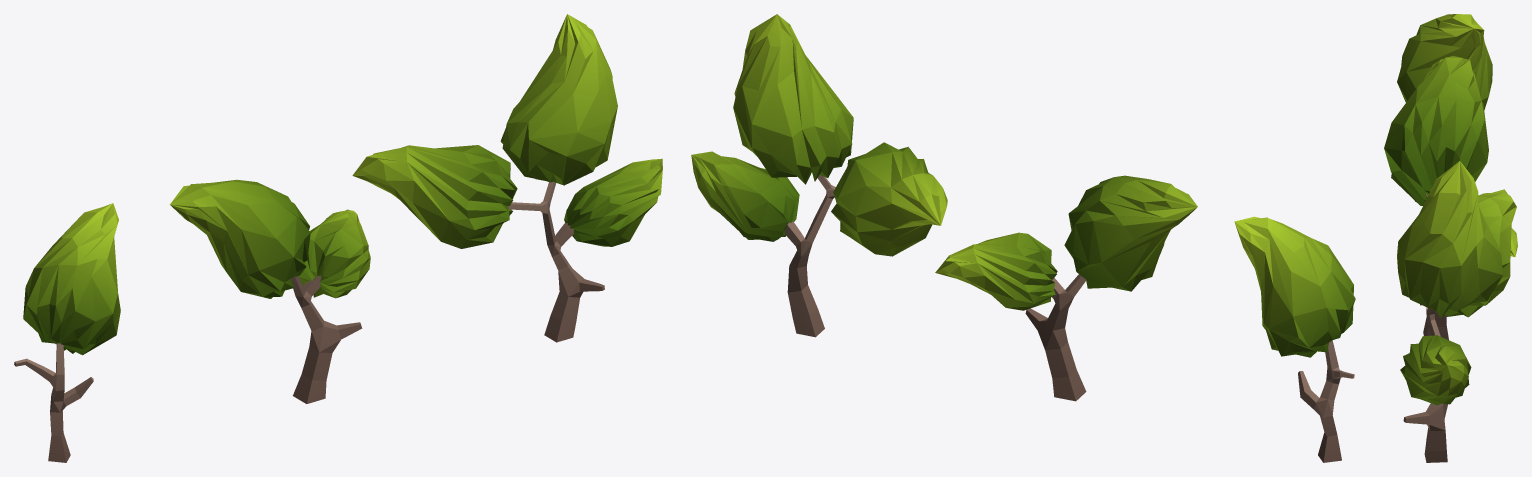
Rendered from Stylized Trees.glb.
The picture shows the model from 3 angles, left to right: view 1: azimuth 30°, elevation 25°; view 2: azimuth 150°, elevation 25°; view 3: azimuth 270°, elevation 25°; orthographic projection. The views are drawn at different scales.
Parts seen in each view (by area): view 1: Tree, Tree.001, Tree.002; view 2: Tree, Tree.001, Tree.002; view 3: Tree, Tree.001, Tree.002.
Boxes of the visible parts, x1,y1,x2,y2 form: Tree: [352, 14, 662, 342]; Tree.001: [170, 179, 370, 403]; Tree.002: [14, 203, 120, 462]; Tree: [691, 14, 947, 337]; Tree.001: [935, 175, 1197, 401]; Tree.002: [1234, 216, 1355, 462]; Tree: [1397, 161, 1516, 462]; Tree.001: [1384, 55, 1517, 339]; Tree.002: [1397, 14, 1492, 109].
Bounding box in the file's own units: 25.72 × 11.82 × 4.67.
1 material, 1 textured.
